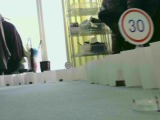speed_30: (116, 6, 157, 46)
